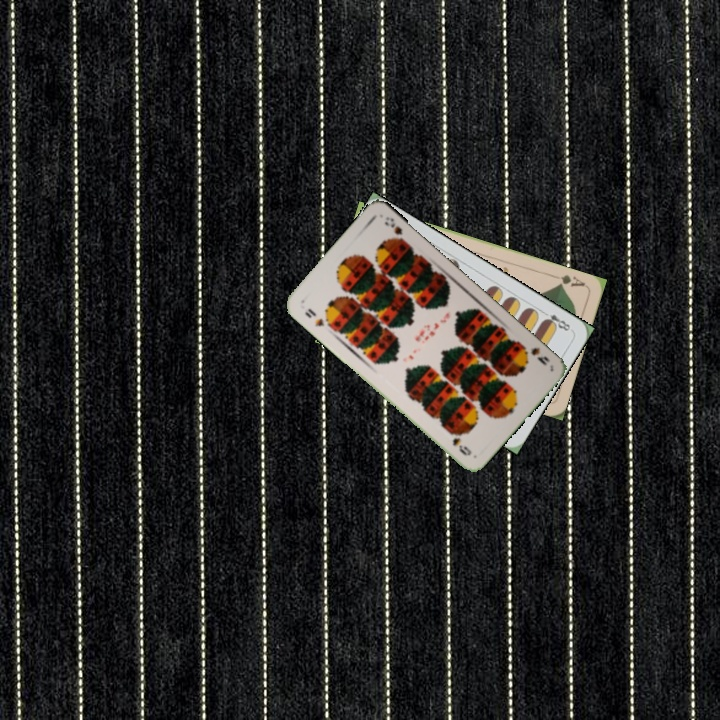E8: (538, 307, 573, 334)
GA: (548, 270, 588, 290)
S9: (516, 340, 552, 368), (301, 304, 327, 329)
